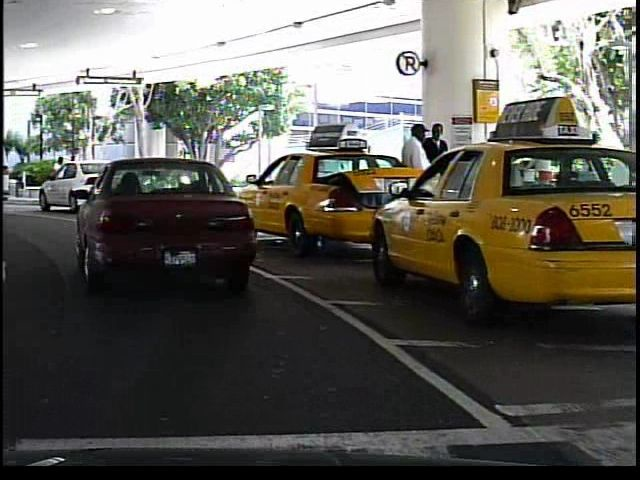person: (395, 121, 436, 240), (422, 120, 455, 233), (46, 152, 71, 196)
